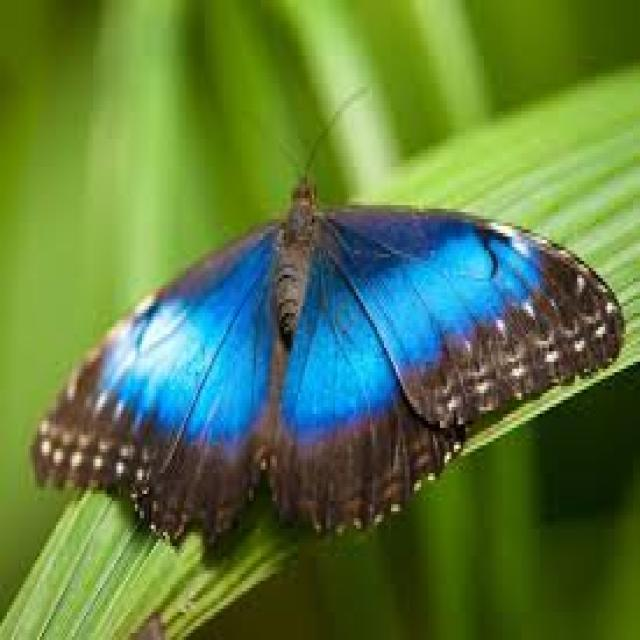butterfly: (142, 214, 479, 483)
